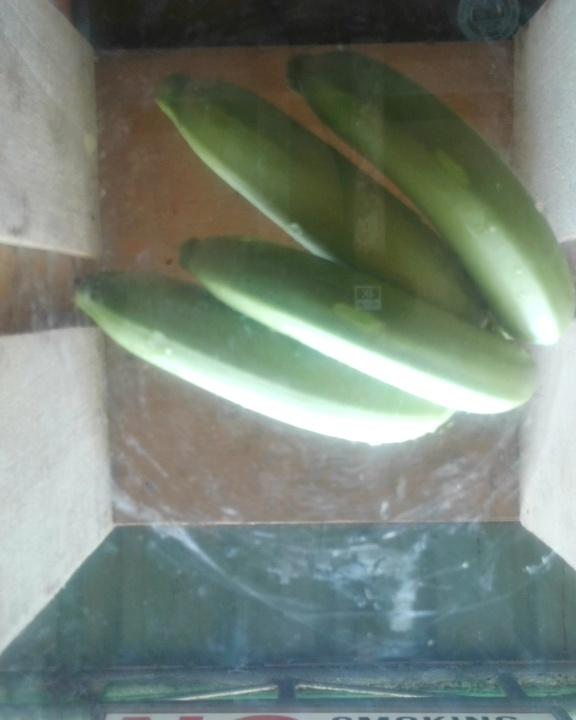SPOT: (74, 48, 574, 454)
